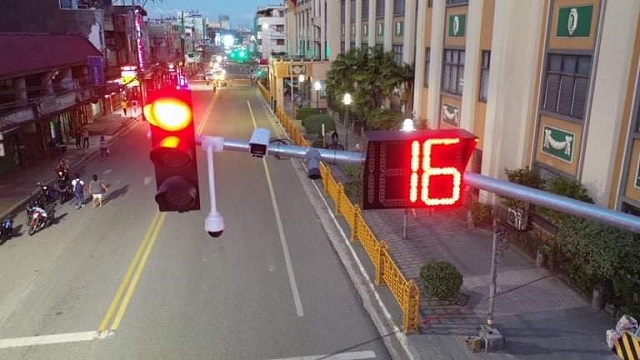bike: (27, 205, 56, 236)
person: (87, 173, 109, 208), (36, 182, 57, 214), (72, 176, 85, 208)
pole: (480, 219, 505, 351)
traffic light: (363, 129, 478, 211), (146, 87, 203, 215)
